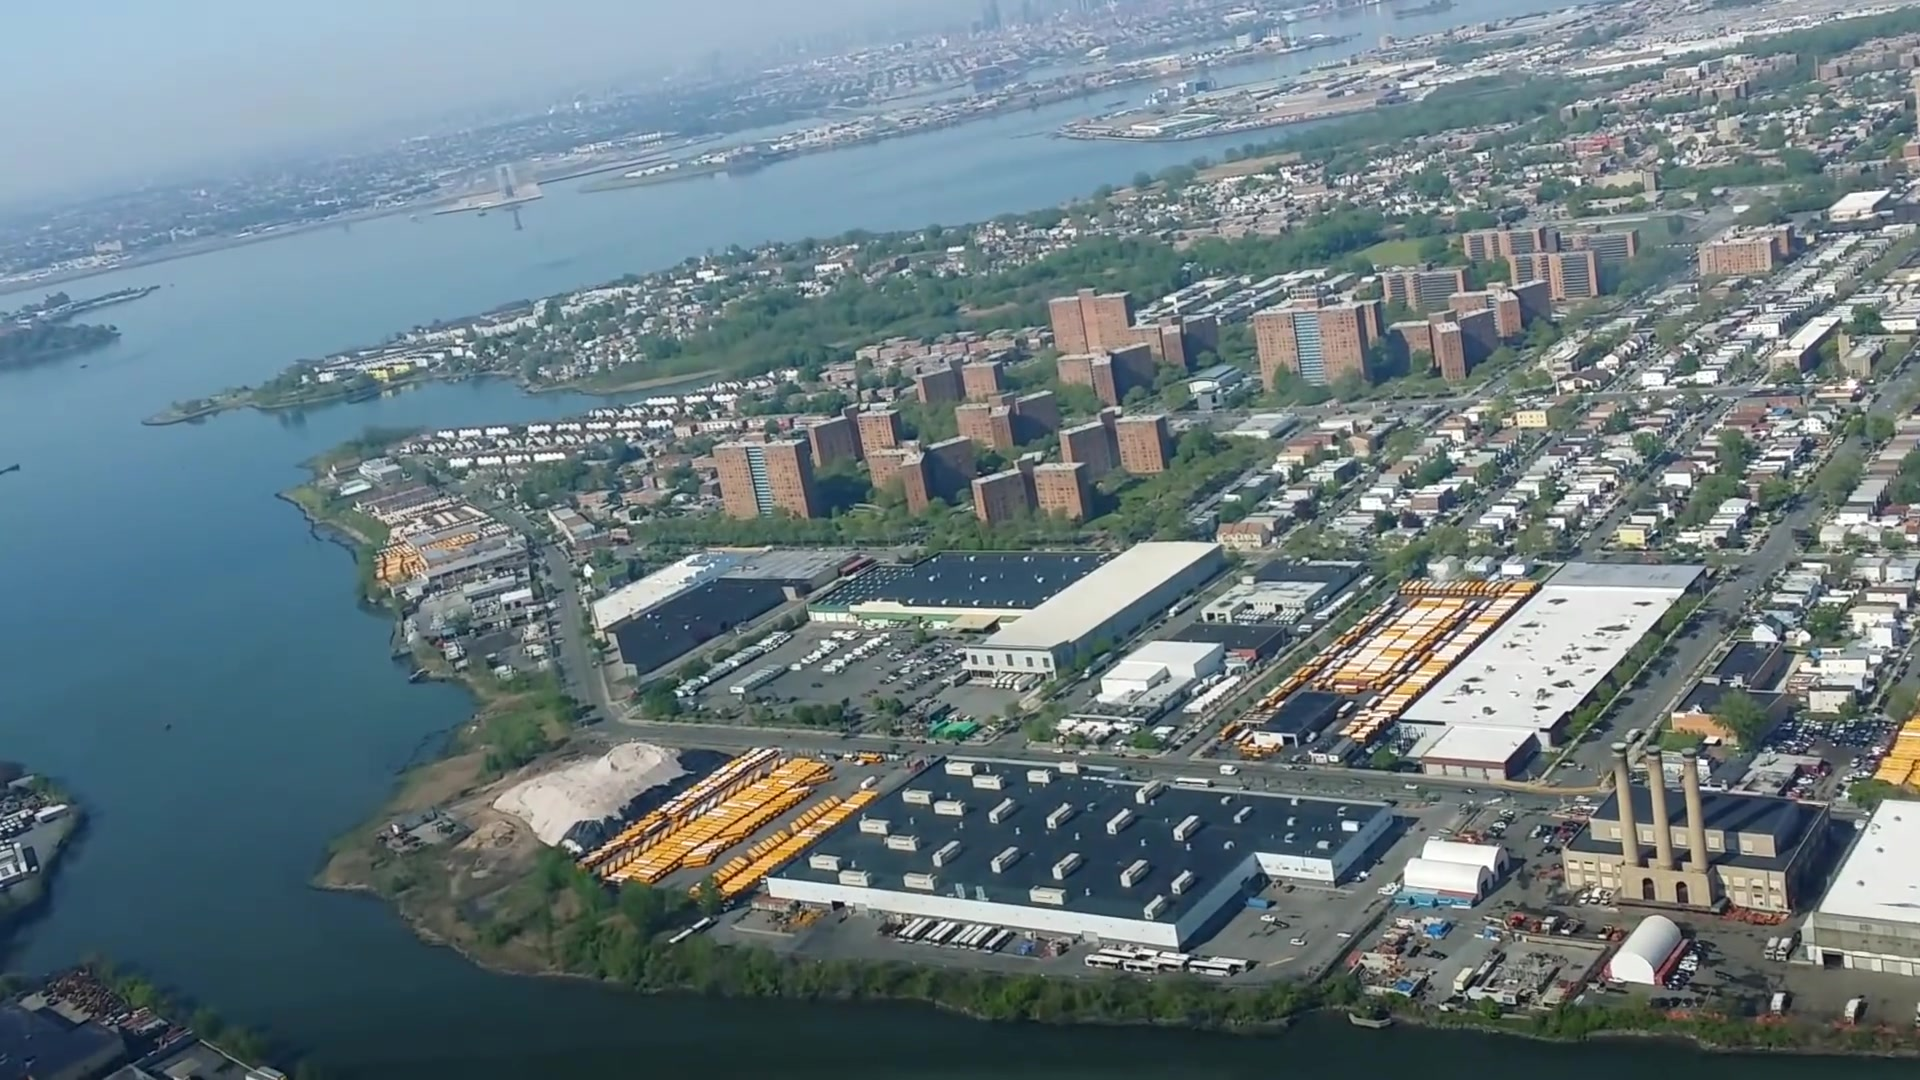runway: (492, 160, 525, 206)
